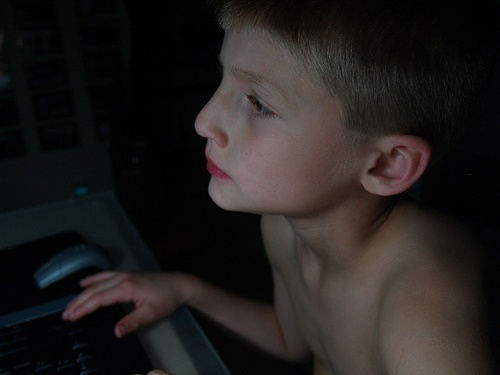head: (189, 2, 449, 225)
person: (23, 1, 481, 375)
